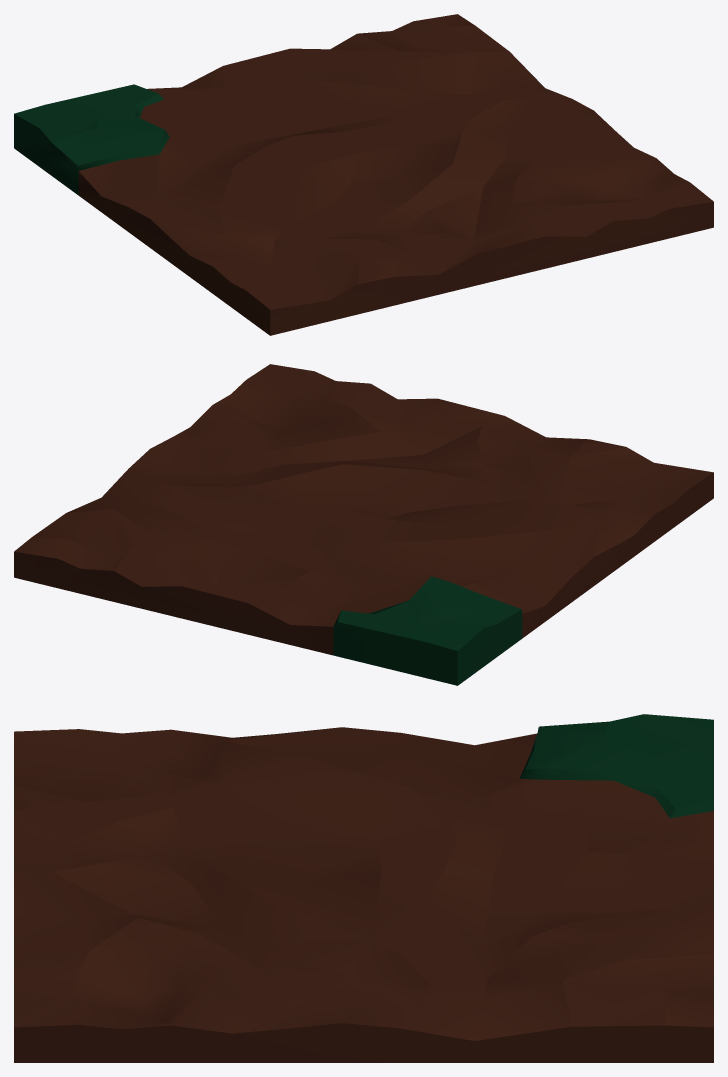
File: Ground_Corner_External_LU.fbx
3 views of the same model, one above another, from view 1: azimuth 30°, elevation 25°; view 2: azimuth 150°, elevation 25°; view 3: azimuth 270°, elevation 25° (orthographic). The views are drawn at different scales.
Visible parts, largest first — view 1: Ground_Corner_External_LU; view 2: Ground_Corner_External_LU; view 3: Ground_Corner_External_LU.
Boxes of the visible parts, <box> form: Ground_Corner_External_LU: <box>14,14,713,335</box>; Ground_Corner_External_LU: <box>14,364,713,685</box>; Ground_Corner_External_LU: <box>14,714,713,1062</box>.
Bounding box in the file's own units: 147 × 13.39 × 147.
